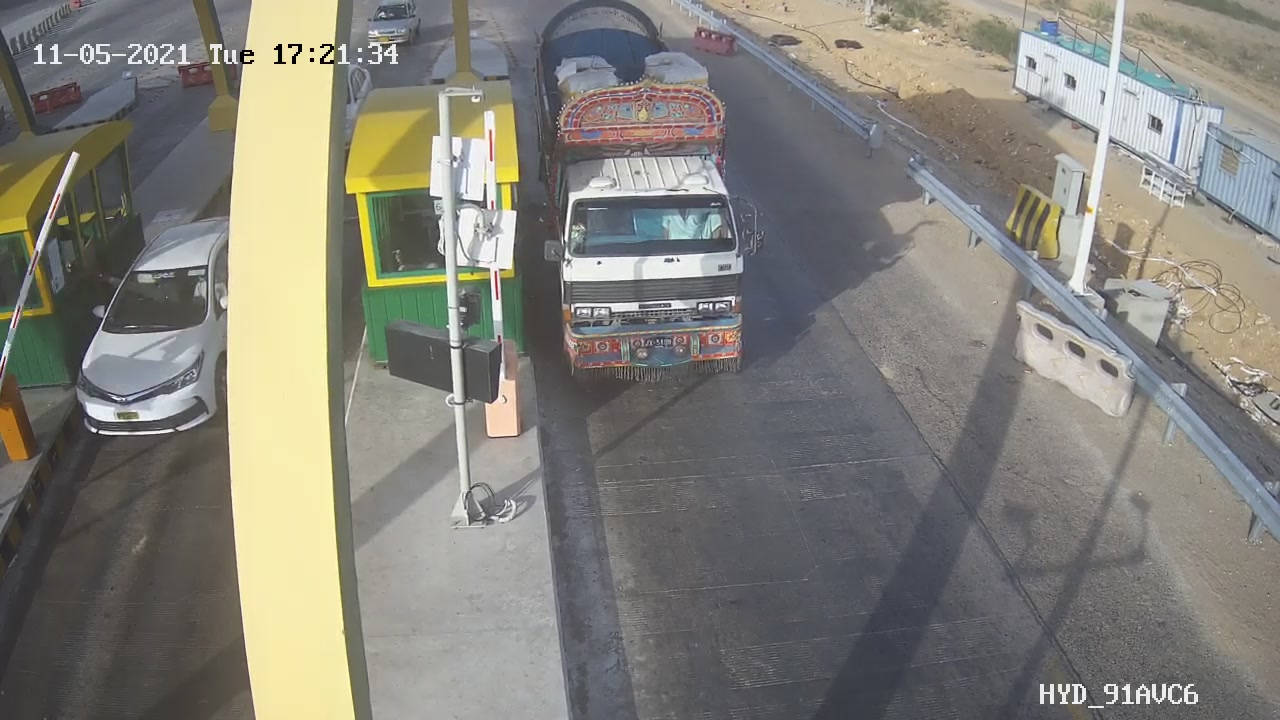F5: (518, 1, 787, 409)
